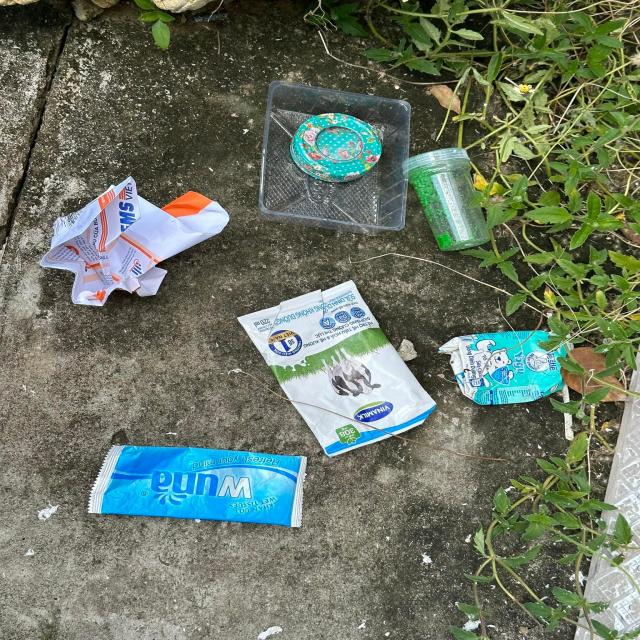milk box: (438, 333, 564, 407)
packet: (232, 280, 432, 454), (85, 445, 305, 525)
paper: (38, 176, 230, 306)
plastic holder: (261, 84, 409, 229)
